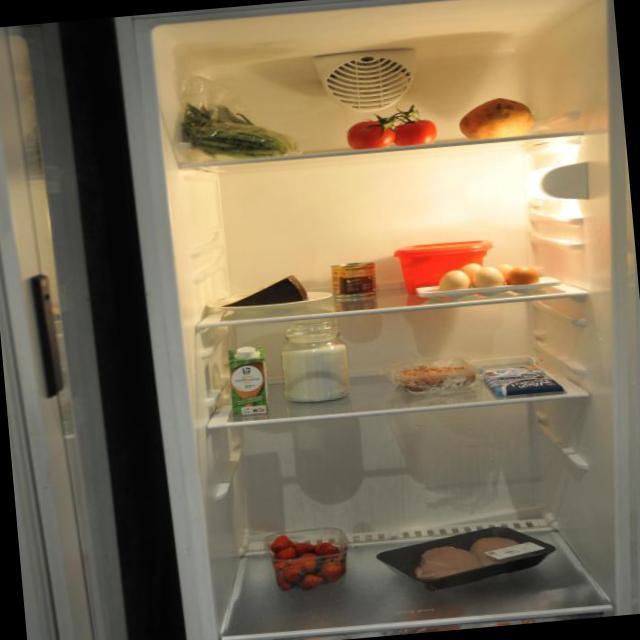Carne pollo: (390, 522, 556, 586)
Gambas/Langostinos: (393, 356, 478, 394)
Huevos: (432, 256, 544, 297)
Mantequilla: (392, 240, 491, 298)
Queso: (218, 271, 316, 310)
Tomate: (344, 108, 438, 156)
